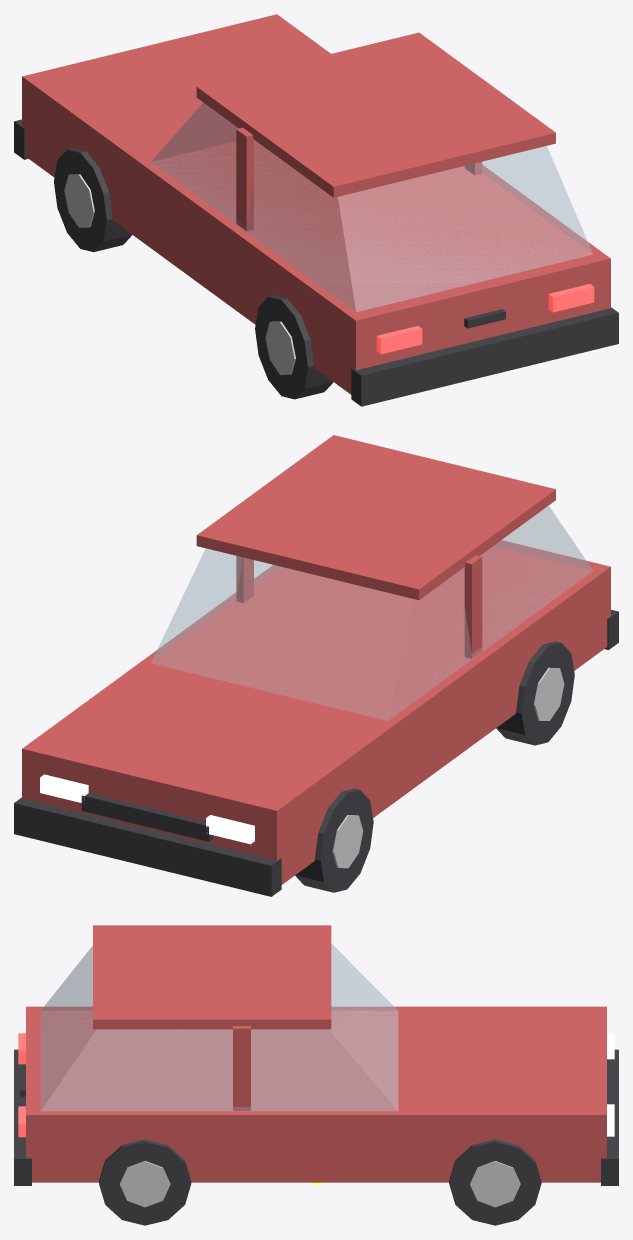
File: car_hatchback_red.glb
3 views of the same model, one above another, from view 1: azimuth 30°, elevation 25°; view 2: azimuth 150°, elevation 25°; view 3: azimuth 270°, elevation 25° (orthographic). The views are drawn at different scales.
Visible parts, largest first — view 1: body, wheel_fl, wheel_rl; view 2: body, wheel_fl, wheel_rl; view 3: body, wheel_fr, wheel_rr.
Part boxes in pixels (<box>): body: <box>14,14,618,406</box>; wheel_fl: <box>54,148,132,252</box>; wheel_rl: <box>255,295,333,399</box>; body: <box>14,435,618,896</box>; wheel_fl: <box>295,788,373,892</box>; wheel_rl: <box>496,641,574,745</box>; body: <box>14,925,618,1185</box>; wheel_fr: <box>449,1139,541,1225</box>; wheel_rr: <box>99,1139,191,1225</box>.
Size of the model in its own units: 1.82 by 1.53 by 4.06.
